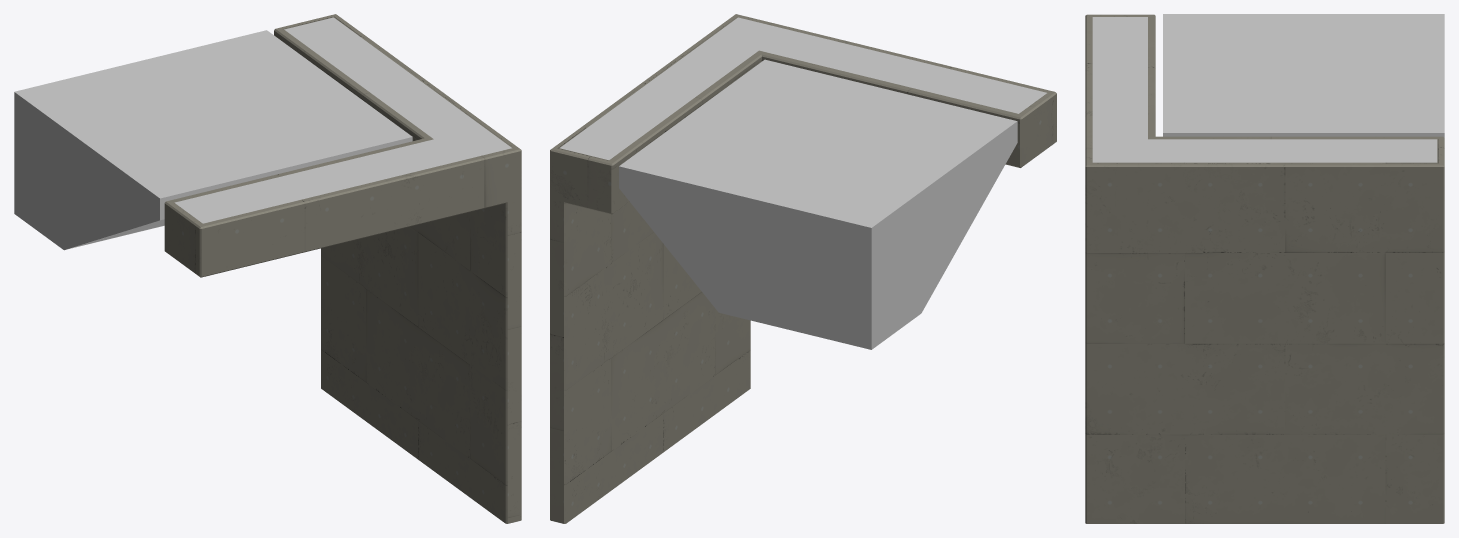
File: PlatformLarge.fbx
The picture shows the model from 3 angles, left to right: view 1: azimuth 30°, elevation 25°; view 2: azimuth 150°, elevation 25°; view 3: azimuth 270°, elevation 25°; orthographic projection. The views are drawn at different scales.
Parts seen in each view (by area): view 1: PlatformLarge; view 2: PlatformLarge; view 3: PlatformLarge.
Part boxes in pixels (left/top/right/bottom): PlatformLarge: left=14, top=14, right=521, bottom=523; PlatformLarge: left=550, top=14, right=1056, bottom=523; PlatformLarge: left=1085, top=14, right=1444, bottom=523.
Bounding box in the file's own units: 500 × 550 × 500.
